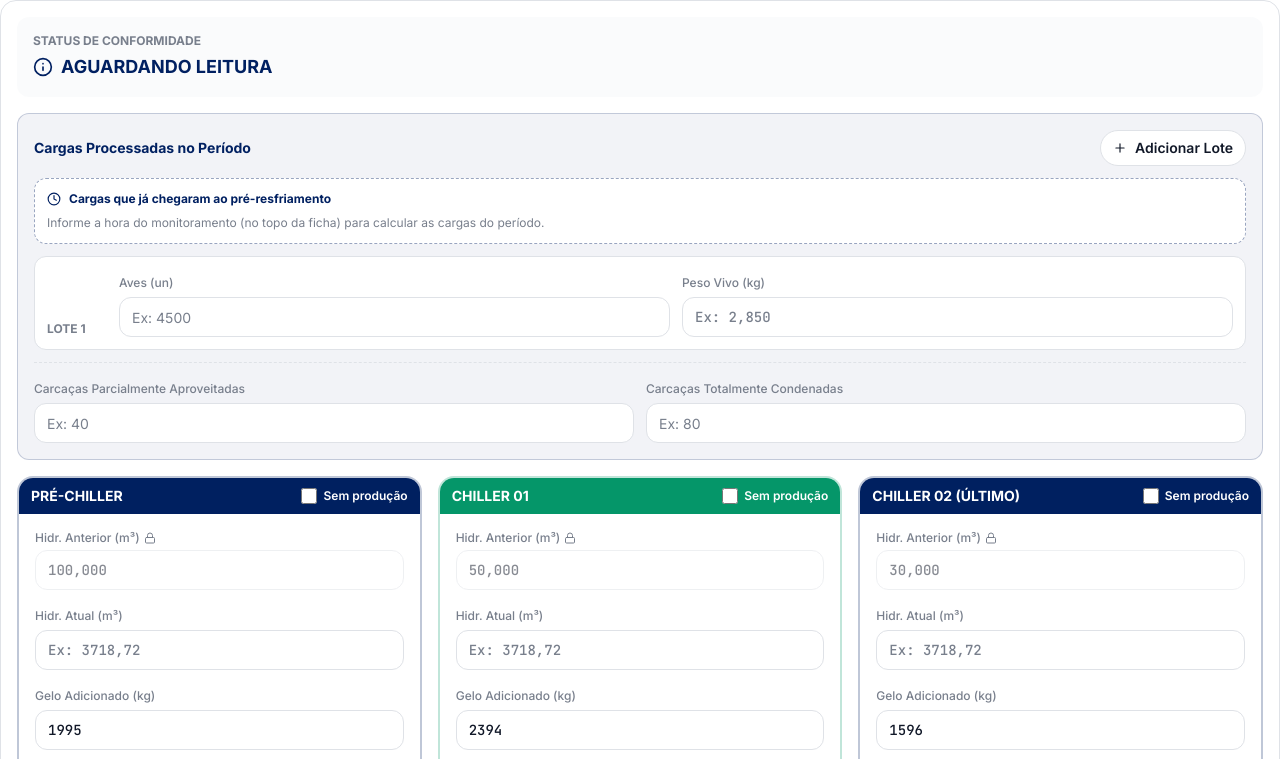
Test: 2º monitoramento do dia — exemplo numérico de referência › um tanque abaixo da meta torna o campo NÃO CONFORME e mostra o alerta; >10× a meta avisa (âmbar)
Step 1. Type "10000" into the field with placeholder "Ex: 4500" → x=394, y=317, box top-left (119, 297), bottom-right (670, 337)
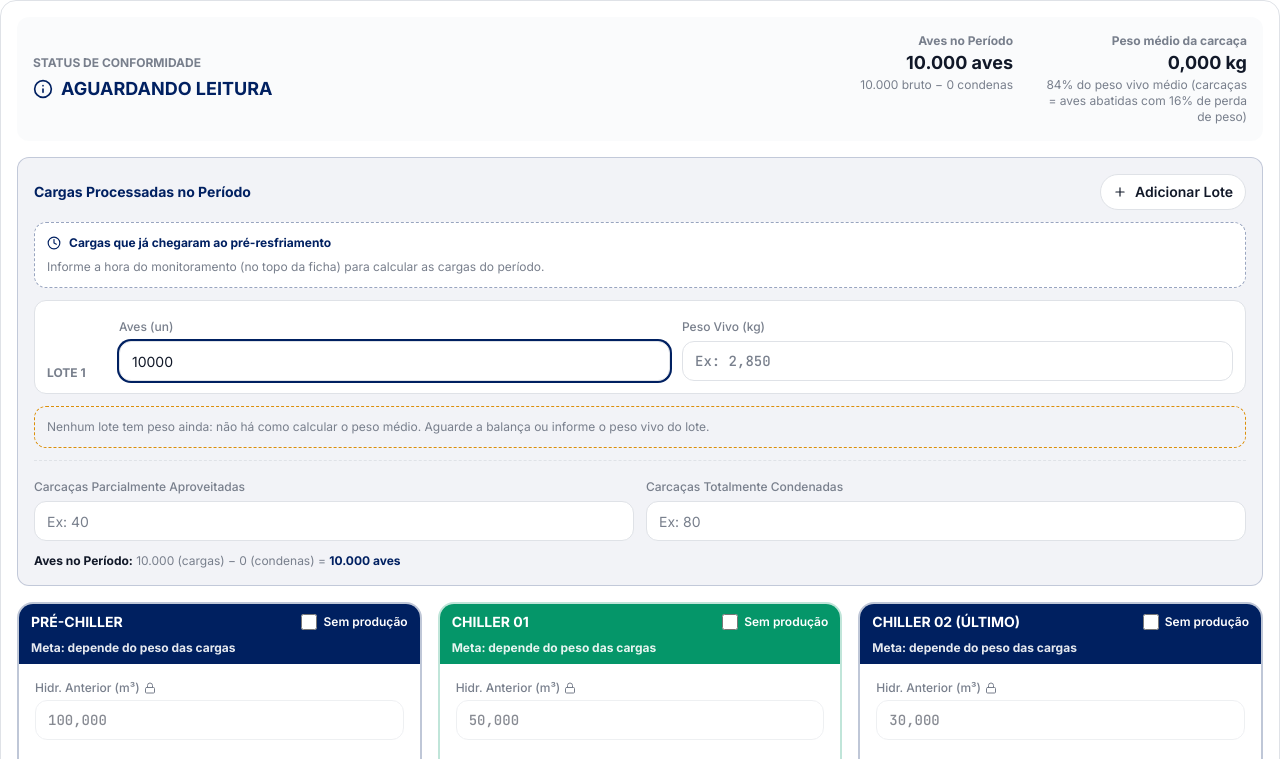
Step 2. Type "2850" into the field with placeholder "Ex: 2,850" → x=958, y=361, box top-left (682, 341), bottom-right (1233, 381)
(page scrolled)
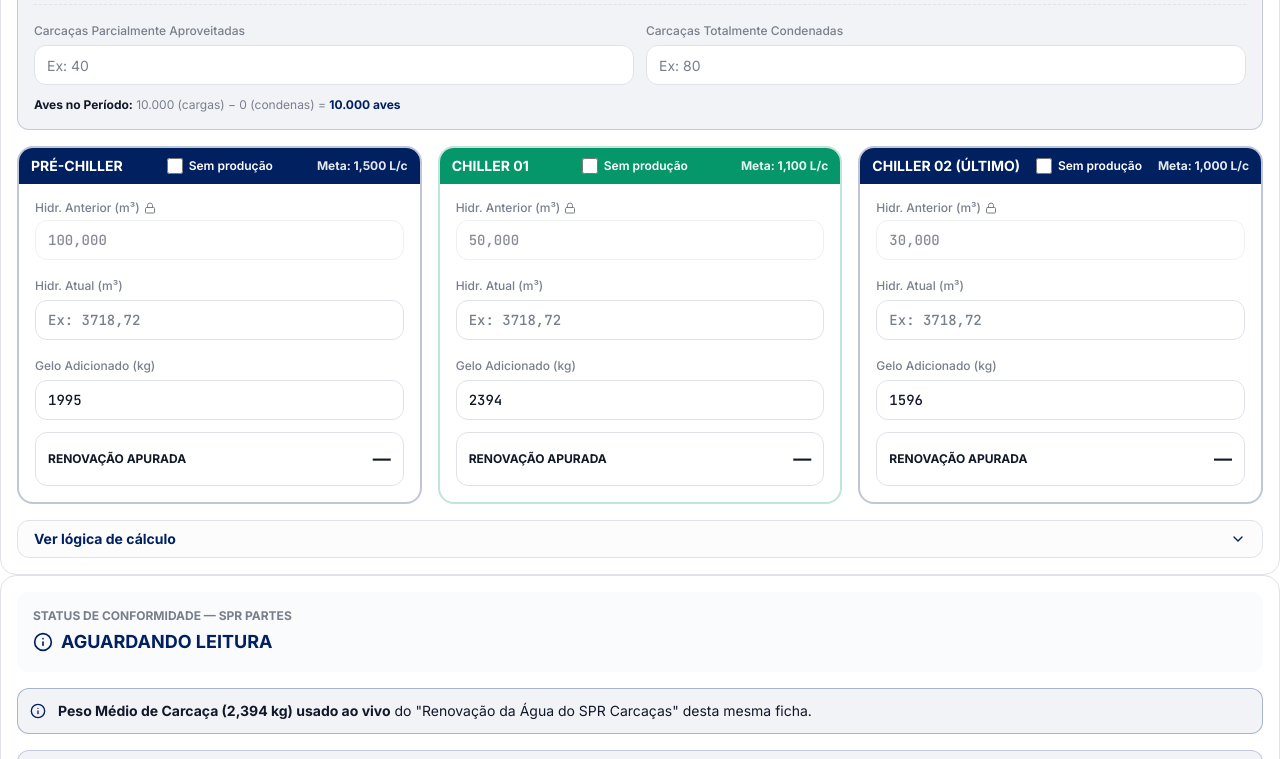
Step 3. Replace the text in the field with placeholder "0" below "PRÉ-CHILLER" with "0" → x=219, y=400, box top-left (35, 380), bottom-right (404, 420)
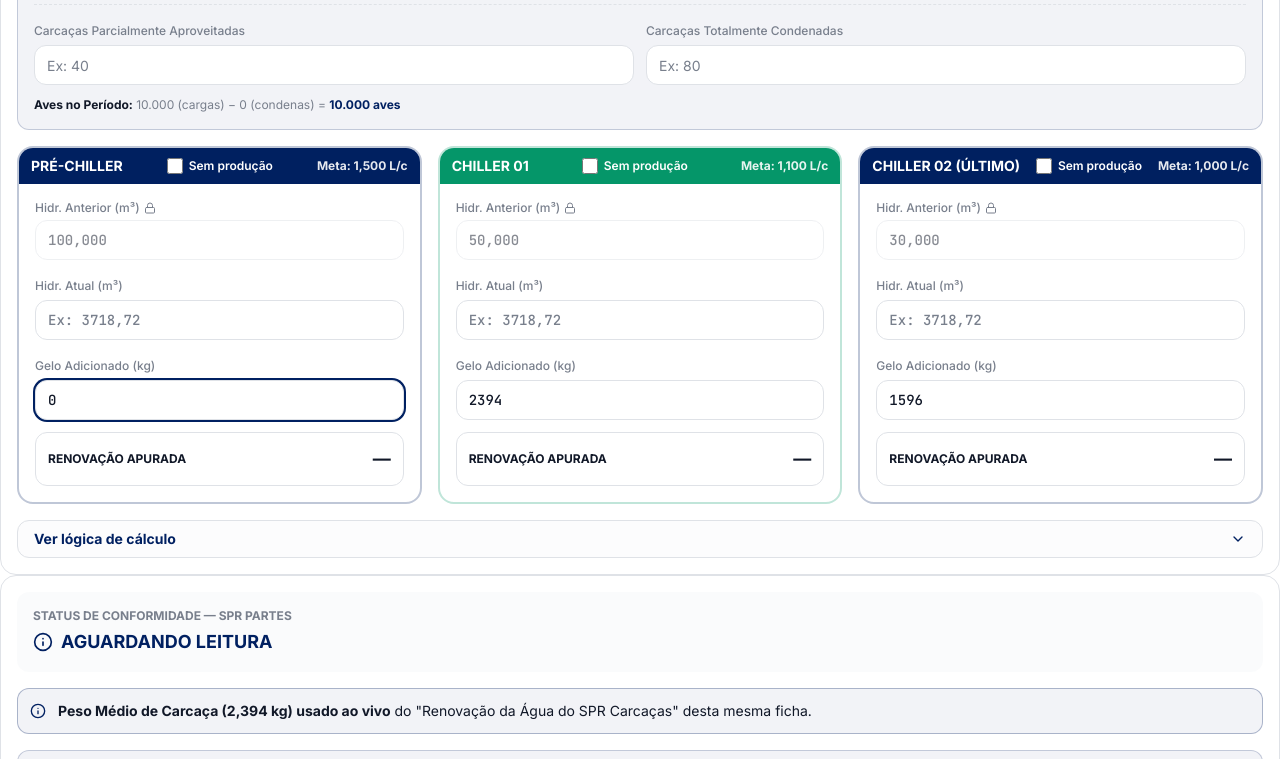
Step 4. Type "100,5" into the field with placeholder "Ex: 3718,72" below "PRÉ-CHILLER" → x=219, y=320, box top-left (35, 300), bottom-right (404, 340)
(page scrolled)
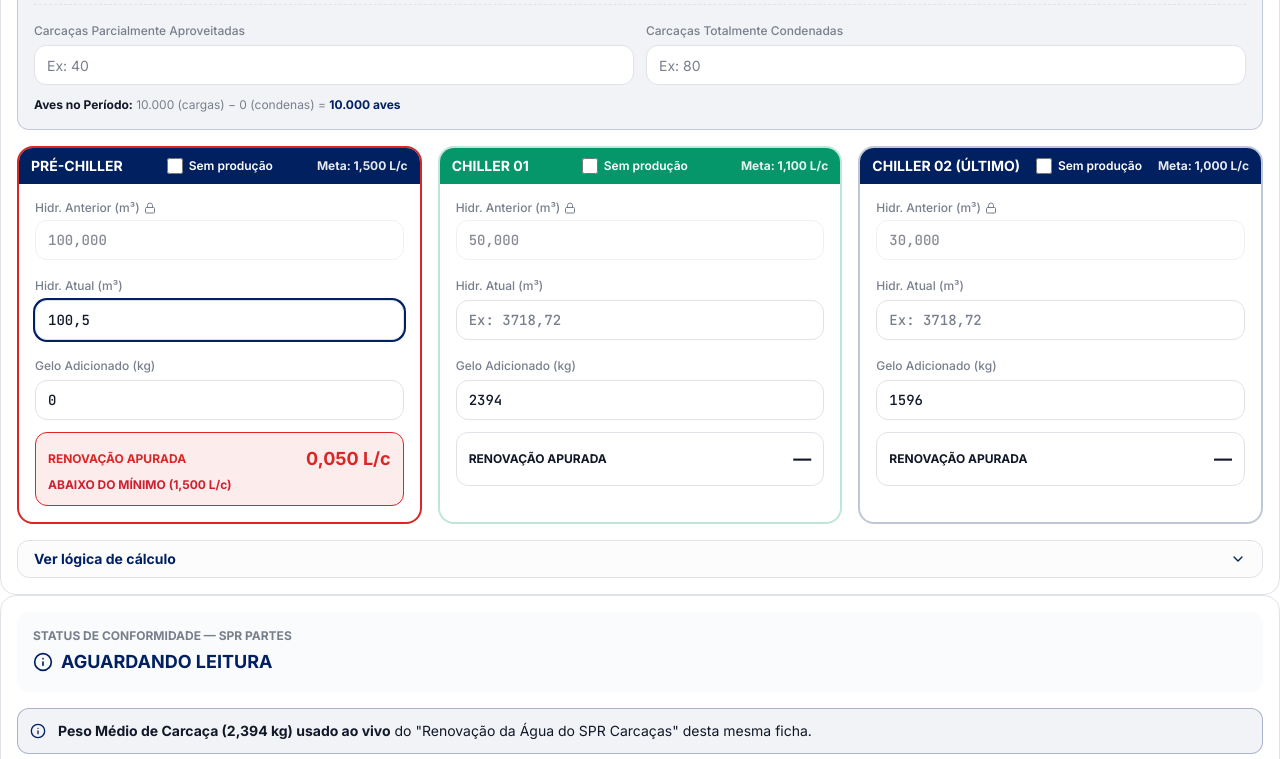
Result: the text "ABAIXO DO MÍNIMO (1,500 L/c)" is shown at top-left (48, 477), bottom-right (232, 492)
Step 5. Replace the text in the 1st field with placeholder "Ex: 3718,72" with "5100" → x=219, y=320, box top-left (35, 300), bottom-right (404, 340)
(page scrolled)
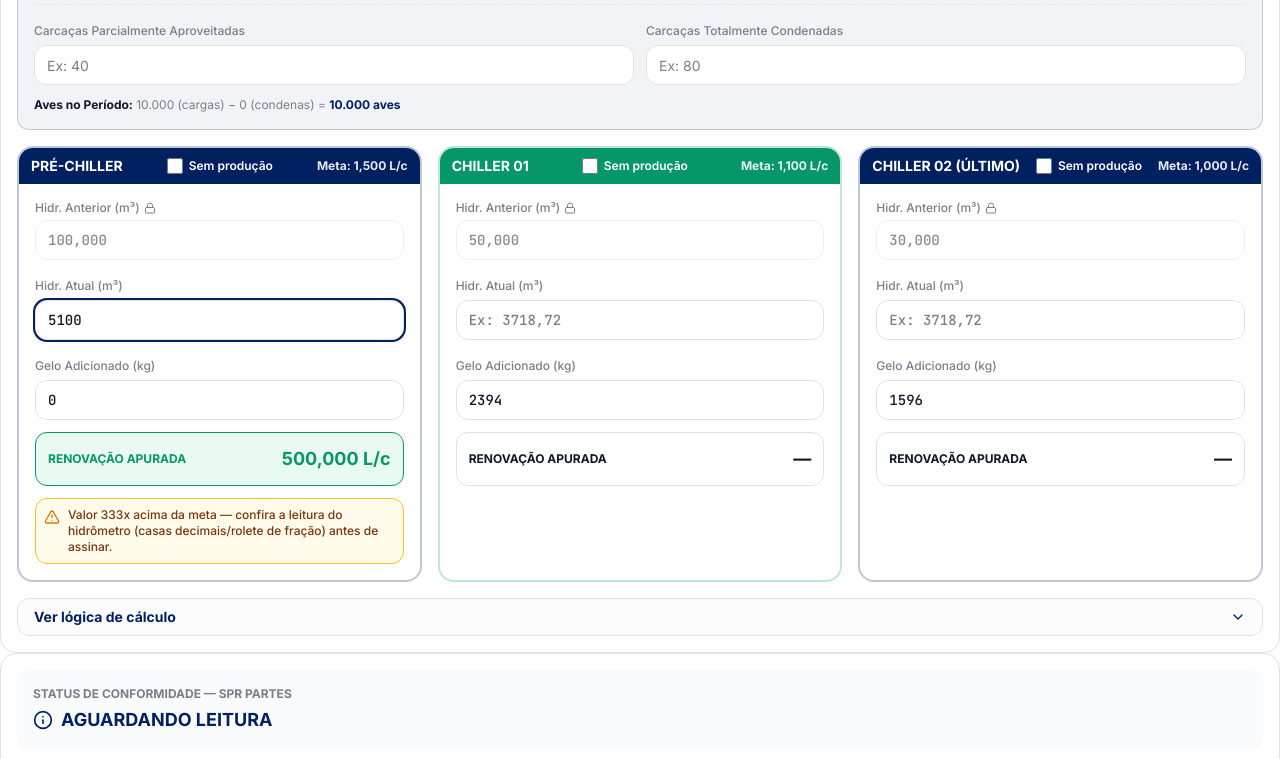
Result: the text "acima da meta — confira a leitura do hidrômetro (casas decimais/rolete de fração) antes de assinar." is shown at top-left (68, 507), bottom-right (378, 554)
